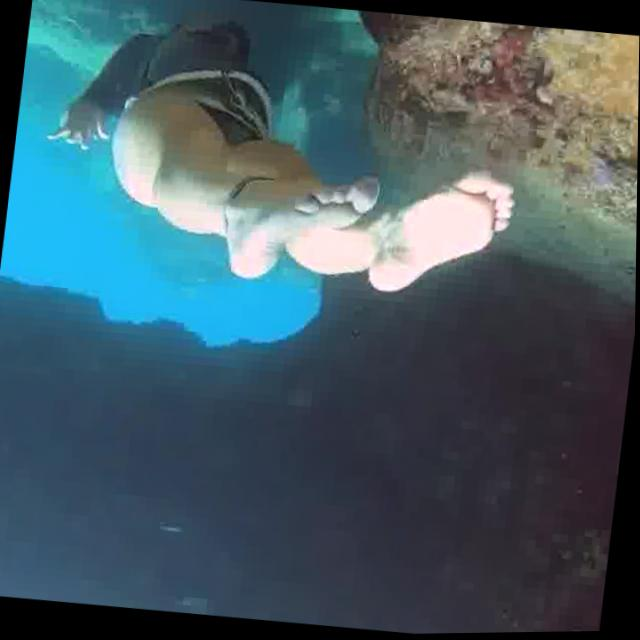human: (19, 0, 550, 324)
